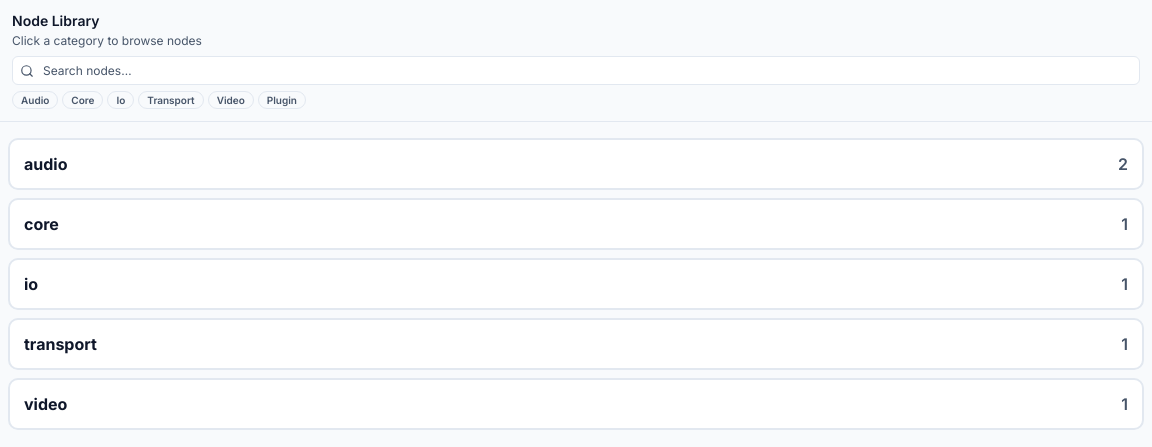
it: NodePalette › filters nodes by search query on kind
In the field with test id "node-search-input": (576, 70) top-left (12, 56), bottom-right (1140, 85), type "opus"
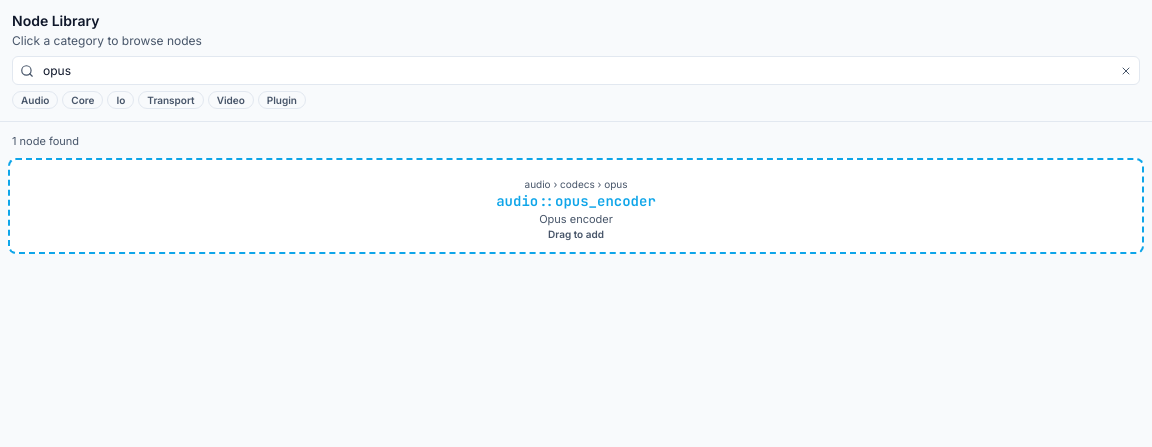
Check: the text "1 node found" is shown, box top-left (12, 134), bottom-right (79, 148)
Check: the text "audio::opus_encoder" is shown, box top-left (496, 192), bottom-right (656, 210)
